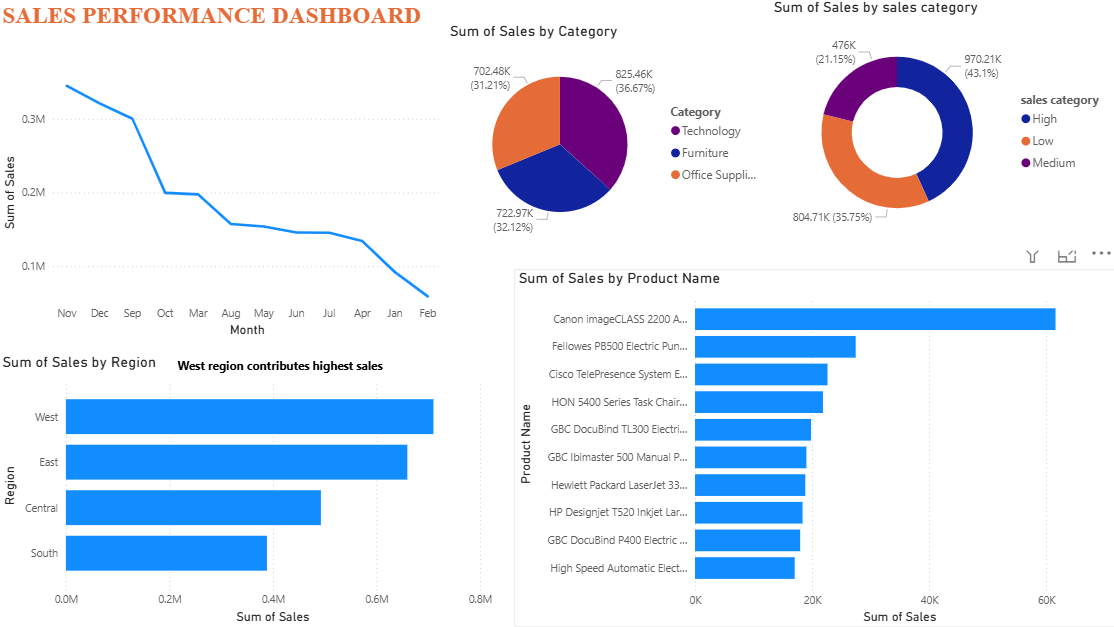

This screenshot's page, from the dashboard's own definition file:
{"tool":"powerbi","page":{"name":"Page 1","canvas":[1280,720],"ordinal":0},"visuals":[{"type":"lineChart","fields":{"Category":["dataset.Month"],"Y":["Sum(dataset.Sales)"]},"box":[0,62.9,511.4,330],"z":0},{"type":"clusteredBarChart","fields":{"Category":["dataset.Region"],"Y":["Sum(dataset.Sales)"]},"box":[0,405.7,570,314.3],"z":1},{"type":"pieChart","fields":{"Category":["dataset.Category"],"Y":["Sum(dataset.Sales)"]},"box":[511.4,27.1,370,261.4],"z":2},{"type":"barChart","fields":{"Category":["dataset.Product Name"],"Y":["Sum(dataset.Sales)"]},"box":[590,310,690,410],"z":3},{"type":"donutChart","fields":{"Category":["dataset.sales category"],"Y":["Sum(dataset.Sales)"]},"box":[881.4,0,398.6,288.6],"z":4},{"type":"textbox","box":[0,0,511.4,84.3],"z":5},{"type":"textbox","box":[200,405.7,250,30],"z":6}]}

Visuals, with their boxes in screenshot pixels (x1, y1, x2, y2), scaled from the page's 1280x720 canvas onto the 1114x627 screenshot:
lineChart - dataset.Month x Sum(dataset.Sales): region(0, 55, 445, 342)
clusteredBarChart - dataset.Region x Sum(dataset.Sales): region(0, 353, 496, 626)
pieChart - dataset.Category x Sum(dataset.Sales): region(445, 24, 767, 251)
barChart - dataset.Product Name x Sum(dataset.Sales): region(513, 270, 1113, 626)
donutChart - dataset.sales category x Sum(dataset.Sales): region(767, 0, 1113, 251)
textbox: region(0, 0, 445, 73)
textbox: region(174, 353, 392, 379)
